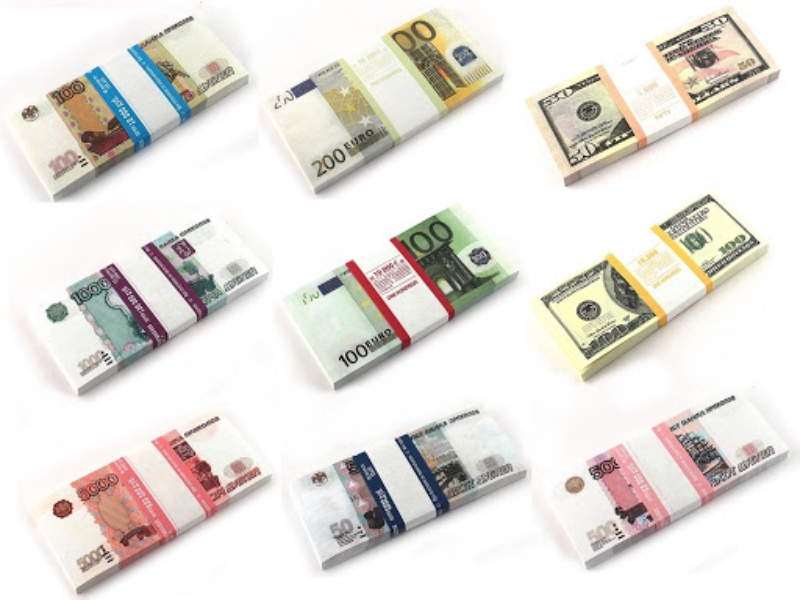cash: (260, 7, 506, 195), (7, 14, 250, 201), (531, 5, 780, 187), (27, 410, 273, 593), (22, 213, 271, 391), (542, 390, 790, 568), (533, 195, 769, 382), (279, 207, 520, 387), (284, 404, 529, 572)
